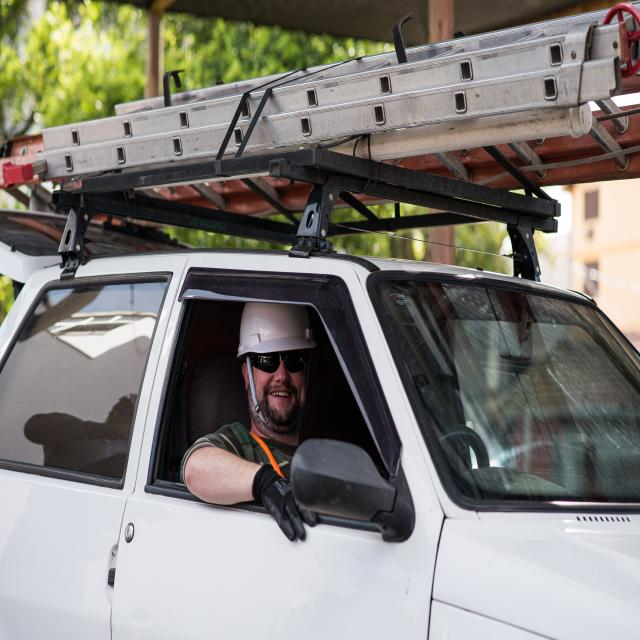capacete: (231, 301, 320, 365)
luva: (249, 459, 319, 548)
